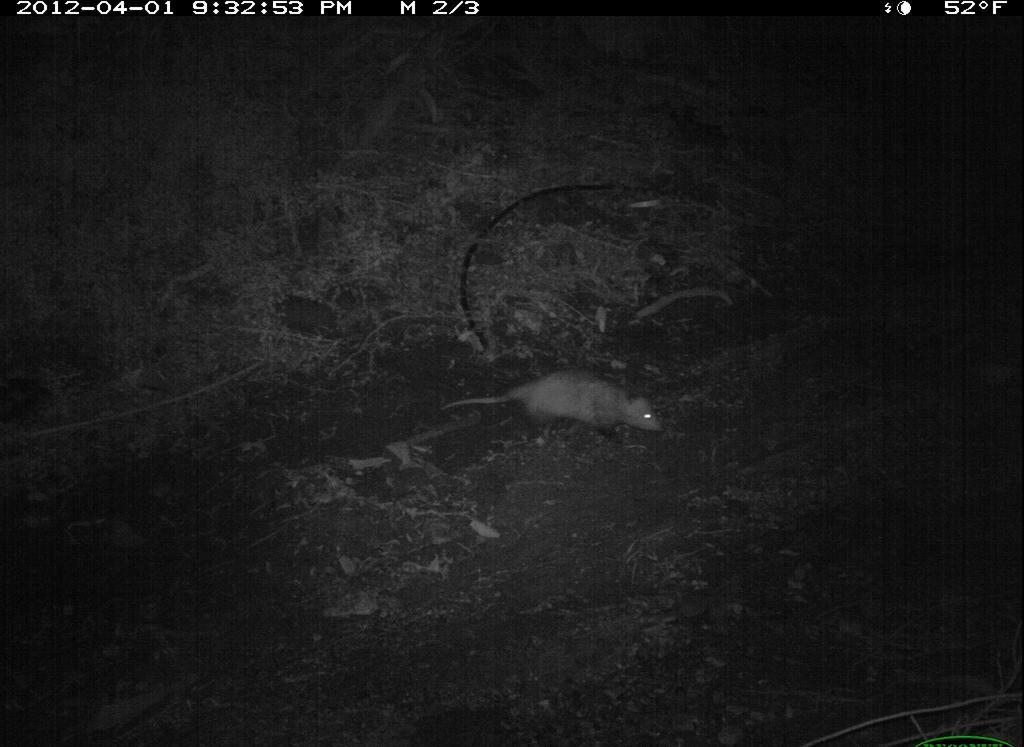opossum: (428, 361, 674, 455)
